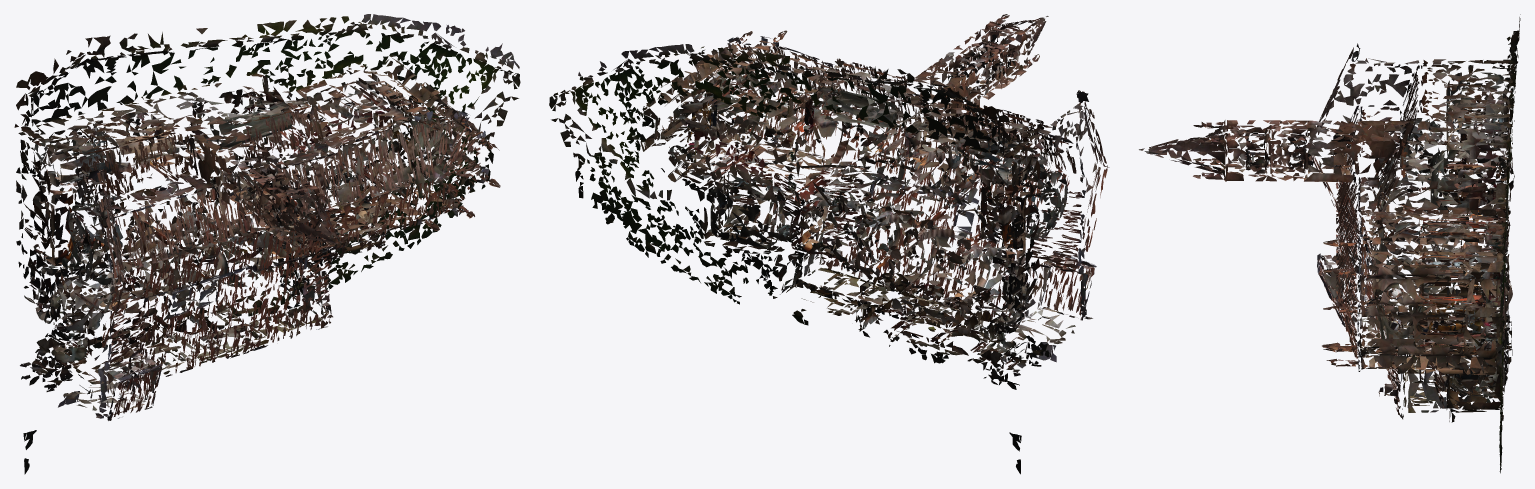
3 views of the same model, side by side, from view 1: azimuth 30°, elevation 25°; view 2: azimuth 150°, elevation 25°; view 3: azimuth 270°, elevation 25° (orthographic). The views are drawn at different scales.
Size of the model in its own units: 50.09 by 39.34 by 31.66.
1 material, 1 textured.
